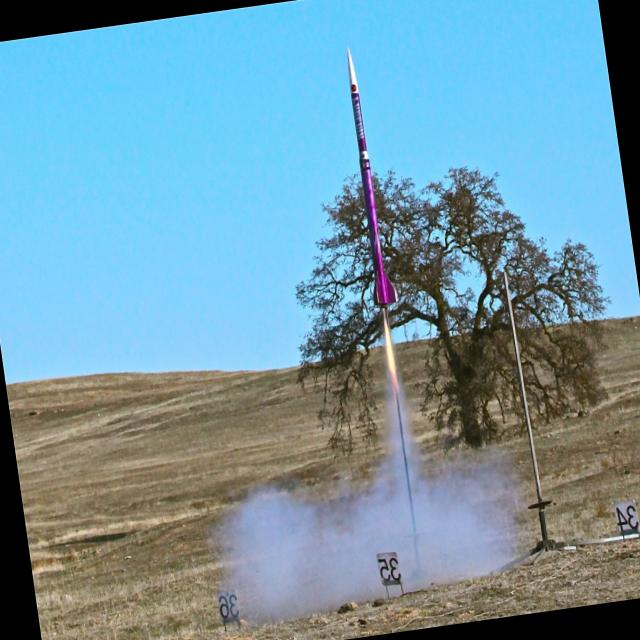rocket: (329, 39, 412, 394)
